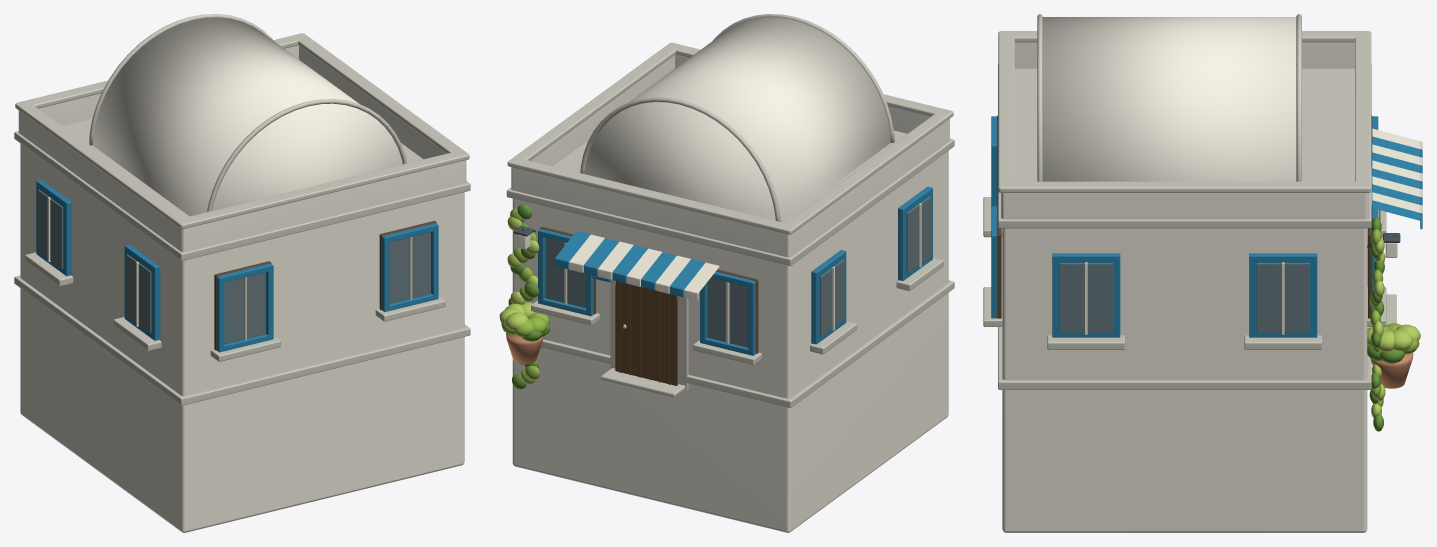
File: town_house_1_1.glb
3 renders of one model, left to right at view 1: azimuth 30°, elevation 25°; view 2: azimuth 150°, elevation 25°; view 3: azimuth 270°, elevation 25°, orthographic. The views are drawn at different scales.
Parts seen in each view (by area): view 1: TownHouse1_1_Geometry; view 2: TownHouse1_1_Geometry; view 3: TownHouse1_1_Geometry.
Boxes of the visible parts, bbox=[...] form: TownHouse1_1_Geometry: bbox=[14, 14, 470, 532]; TownHouse1_1_Geometry: bbox=[499, 14, 954, 532]; TownHouse1_1_Geometry: bbox=[983, 14, 1422, 532].
Bounding box in the file's own units: 6.62 × 7.82 × 7.22.
